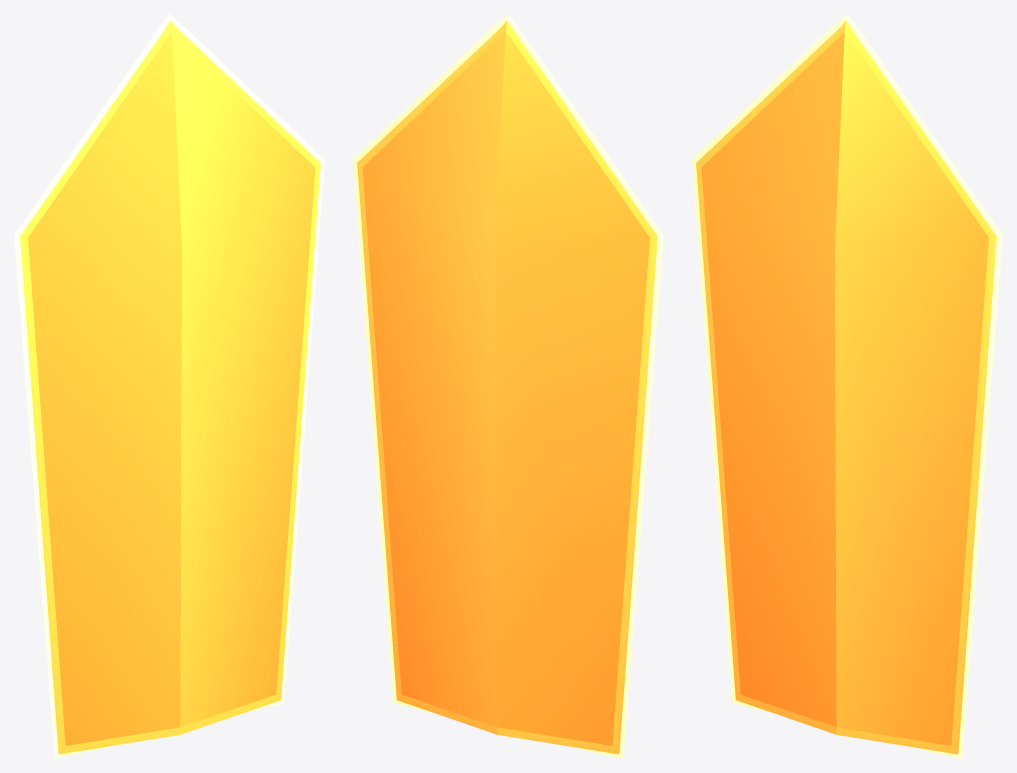
Rendered from gold_blade (1).glb.
3 renders of one model, left to right at view 1: azimuth 30°, elevation 25°; view 2: azimuth 150°, elevation 25°; view 3: azimuth 330°, elevation 25°, orthographic.
Parts seen in each view (by area): view 1: gold_blade_steel.022; view 2: gold_blade_steel.022; view 3: gold_blade_steel.022.
Part boxes in pixels (box(x1,y1,x2,y2)): gold_blade_steel.022: box(14, 14, 324, 758); gold_blade_steel.022: box(353, 14, 663, 758); gold_blade_steel.022: box(692, 14, 1002, 758).
Size of the model in its own units: 5.17 by 11.43 by 0.7262.
Materials: 1 (1 with a texture image).
